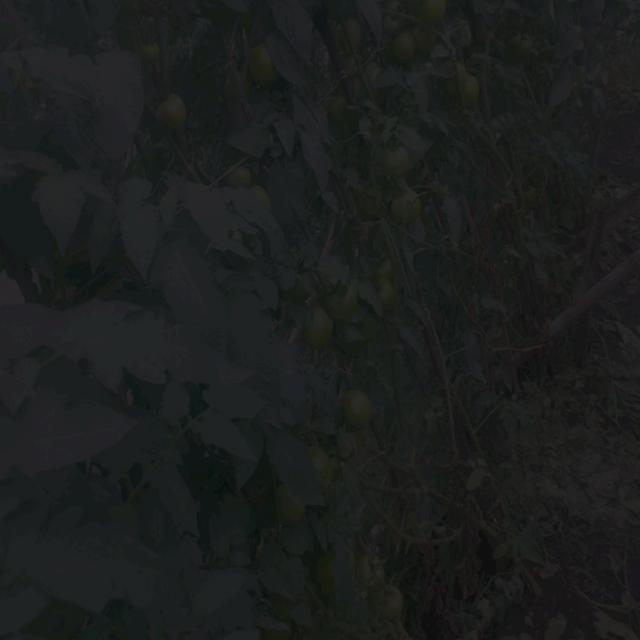tomato: (344, 390, 379, 434), (246, 46, 279, 88), (310, 312, 343, 352), (155, 94, 188, 132), (387, 147, 419, 186), (280, 492, 307, 533), (378, 586, 409, 621), (394, 193, 428, 224), (375, 270, 405, 304), (416, 1, 451, 30), (394, 33, 423, 66), (364, 553, 389, 587), (464, 68, 486, 106), (345, 22, 368, 57), (321, 555, 339, 599), (335, 285, 358, 319), (257, 183, 279, 218), (317, 444, 337, 482), (230, 164, 259, 183), (519, 36, 541, 60), (382, 16, 404, 39), (143, 39, 164, 63), (367, 60, 385, 83)
